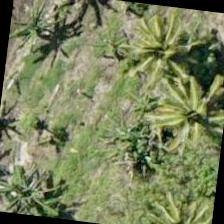Kelapa_Sawit: (109, 1, 209, 101), (144, 63, 223, 162)
